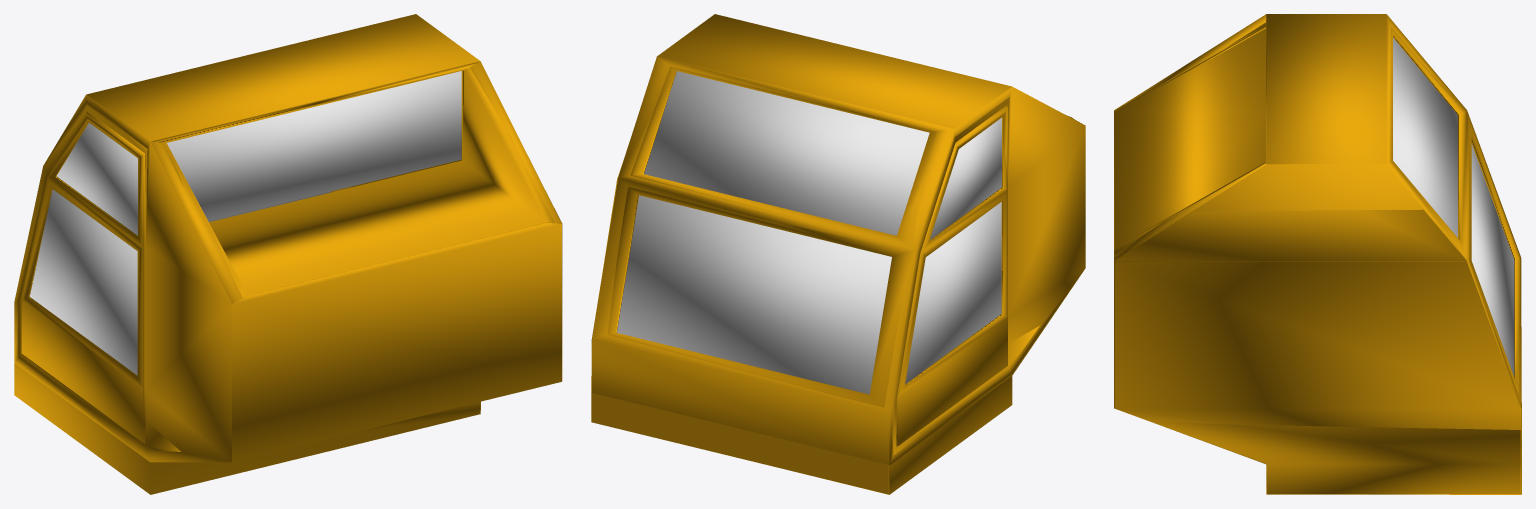
Rendered from ExcavatorCab.fbx.
The picture shows the model from 3 angles, left to right: view 1: azimuth 30°, elevation 25°; view 2: azimuth 150°, elevation 25°; view 3: azimuth 270°, elevation 25°; orthographic projection. The views are drawn at different scales.
Visible parts, largest first — view 1: cab, cab.001; view 2: cab, cab.001; view 3: cab, cab.001.
Boxes of the visible parts, x1=… form: cab: x1=14, y1=14, x2=562, y2=494; cab.001: x1=29, y1=71, x2=461, y2=375; cab: x1=591, y1=14, x2=1085, y2=494; cab.001: x1=617, y1=71, x2=1001, y2=394; cab: x1=1114, y1=14, x2=1521, y2=494; cab.001: x1=1393, y1=38, x2=1514, y2=376.
Size of the model in its own units: 266 by 270 by 302.
